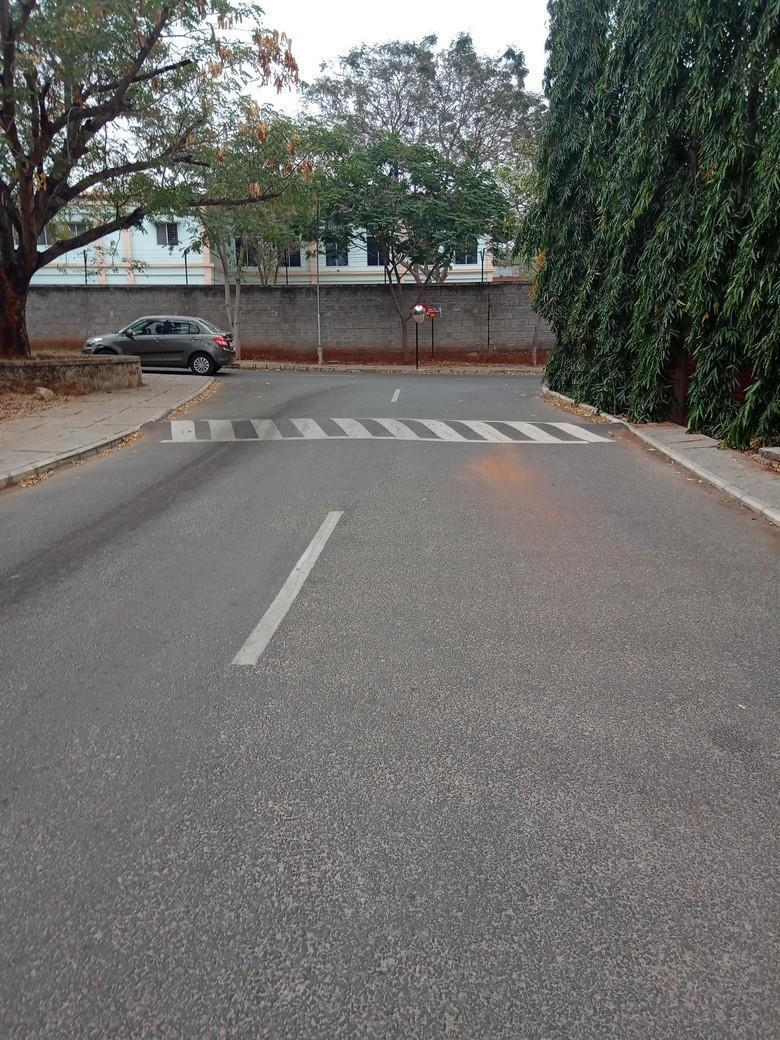speedbreaker: (148, 417, 636, 455)
